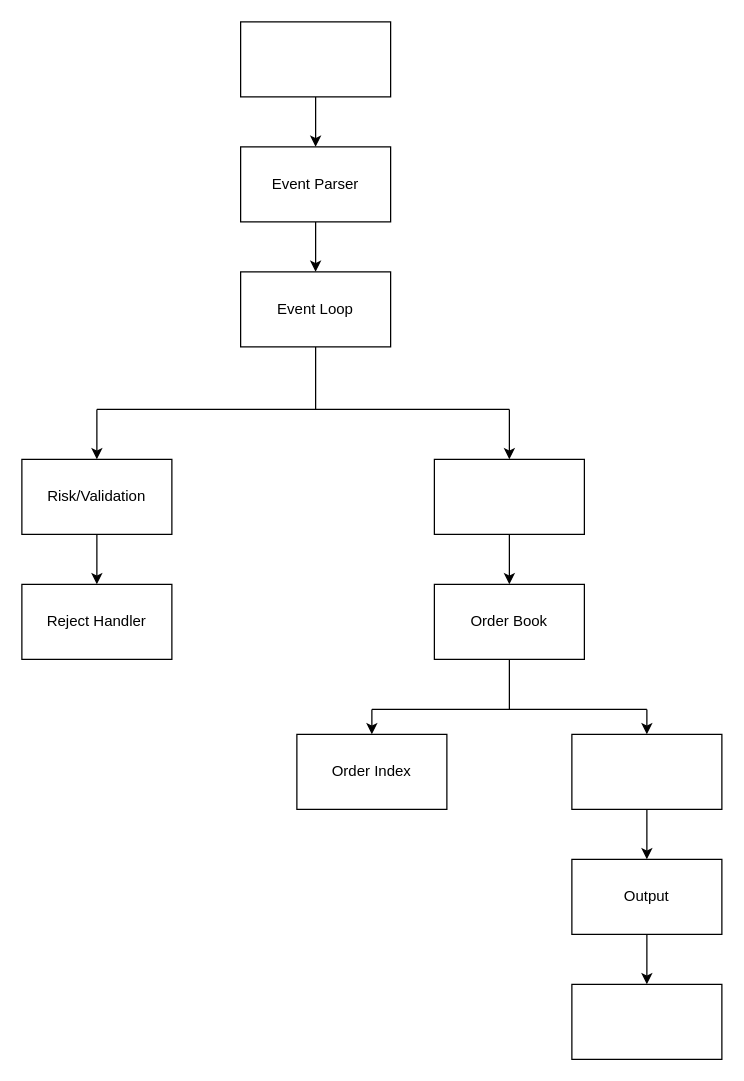
The diagram is 744 pixels wide and 1081 high, and some of its shapes have lost their labels. Each missing label, with the centre of its shape:
"benchmark and Metrics" goes at (x=646, y=1021).
"Input" goes at (x=315, y=59).
"Matching Engine" goes at (x=508, y=496).
"Trade execution" goes at (x=646, y=771).
